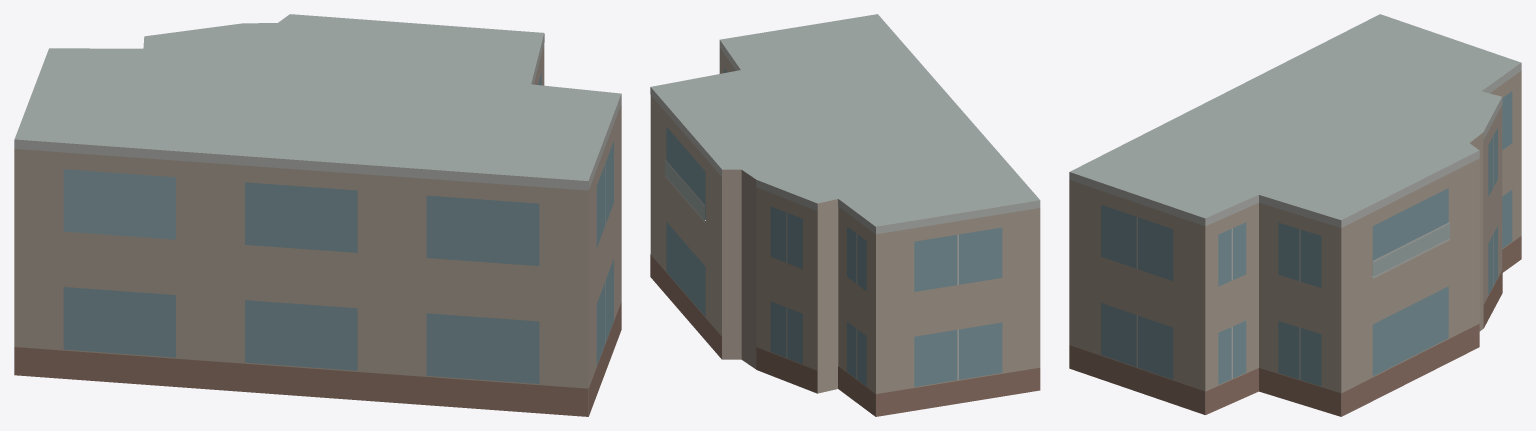
File: survey-upis-32659133.glb
3 renders of one model, left to right at view 1: azimuth 30°, elevation 25°; view 2: azimuth 150°, elevation 25°; view 3: azimuth 270°, elevation 25°, orthographic. The views are drawn at different scales.
Visible parts, largest first — view 1: survey-upis-32659133.tmp; view 2: survey-upis-32659133.tmp; view 3: survey-upis-32659133.tmp.
Part boxes in pixels (left/top/right/bottom): survey-upis-32659133.tmp: left=14, top=14, right=621, bottom=416; survey-upis-32659133.tmp: left=650, top=14, right=1040, bottom=416; survey-upis-32659133.tmp: left=1069, top=14, right=1521, bottom=416.
Size of the model in its own units: 13.73 by 6.1 by 12.72.
